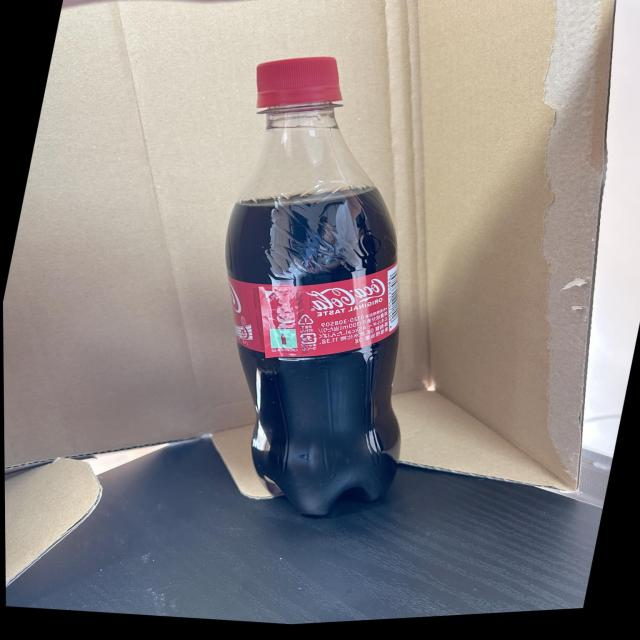high: (226, 57, 400, 515)
